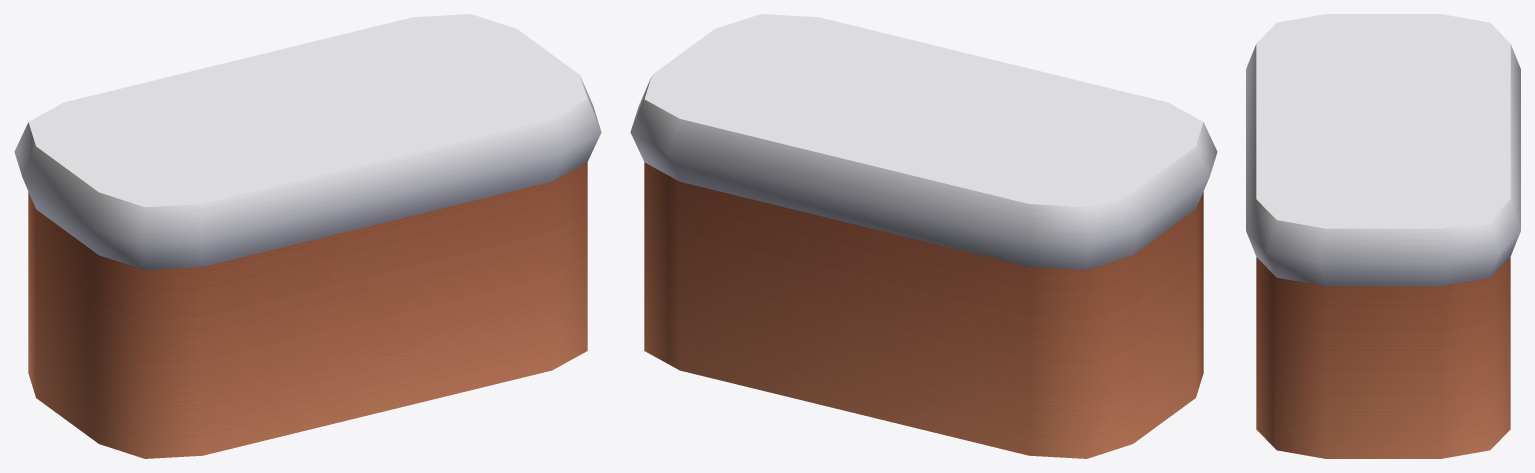
The model's file is block-snow-long.glb.
3 renders of one model, left to right at view 1: azimuth 30°, elevation 25°; view 2: azimuth 150°, elevation 25°; view 3: azimuth 270°, elevation 25°, orthographic. The views are drawn at different scales.
Parts seen in each view (by area): view 1: block-snow-long; view 2: block-snow-long; view 3: block-snow-long.
Part boxes in pixels (x1=…): block-snow-long: x1=14, y1=14, x2=601, y2=458; block-snow-long: x1=630, y1=14, x2=1217, y2=458; block-snow-long: x1=1246, y1=14, x2=1520, y2=458.
Size of the model in its own units: 2.08 by 1 by 1.08.
1 material, 1 textured.
